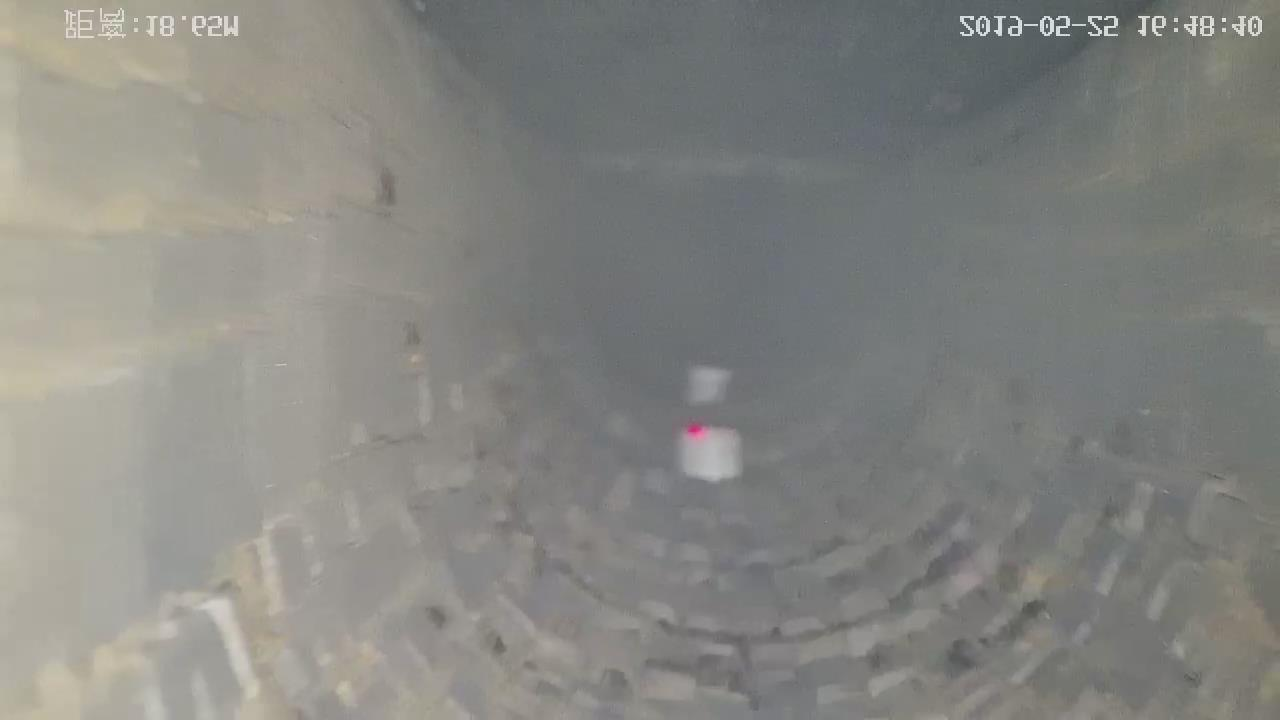ZGAJ: (676, 427, 741, 483), (685, 365, 730, 404)
